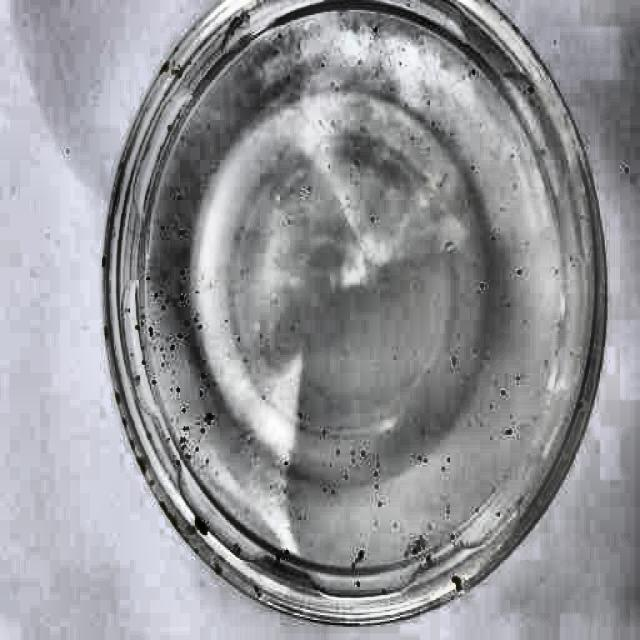plastic: (102, 0, 611, 618)
